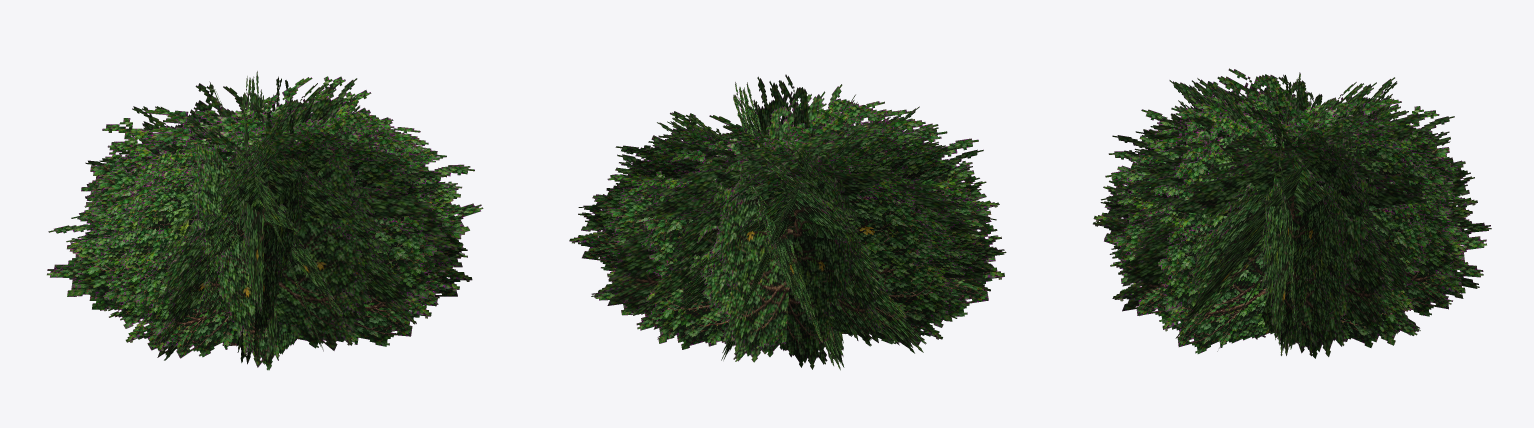
The model's file is mm9_deco_bush05.glb.
3 renders of one model, left to right at view 1: azimuth 30°, elevation 25°; view 2: azimuth 150°, elevation 25°; view 3: azimuth 270°, elevation 25°, orthographic.
Parts seen in each view (by area): view 1: Bush05; view 2: Bush05; view 3: Bush05.
Boxes of the visible parts, bbox=[...] form: Bush05: bbox=[47, 71, 483, 370]; Bush05: bbox=[569, 74, 1006, 370]; Bush05: bbox=[1093, 68, 1491, 358].
Bounding box in the file's own units: 1.9 × 1 × 1.73.
Materials: 1 (1 with a texture image).
